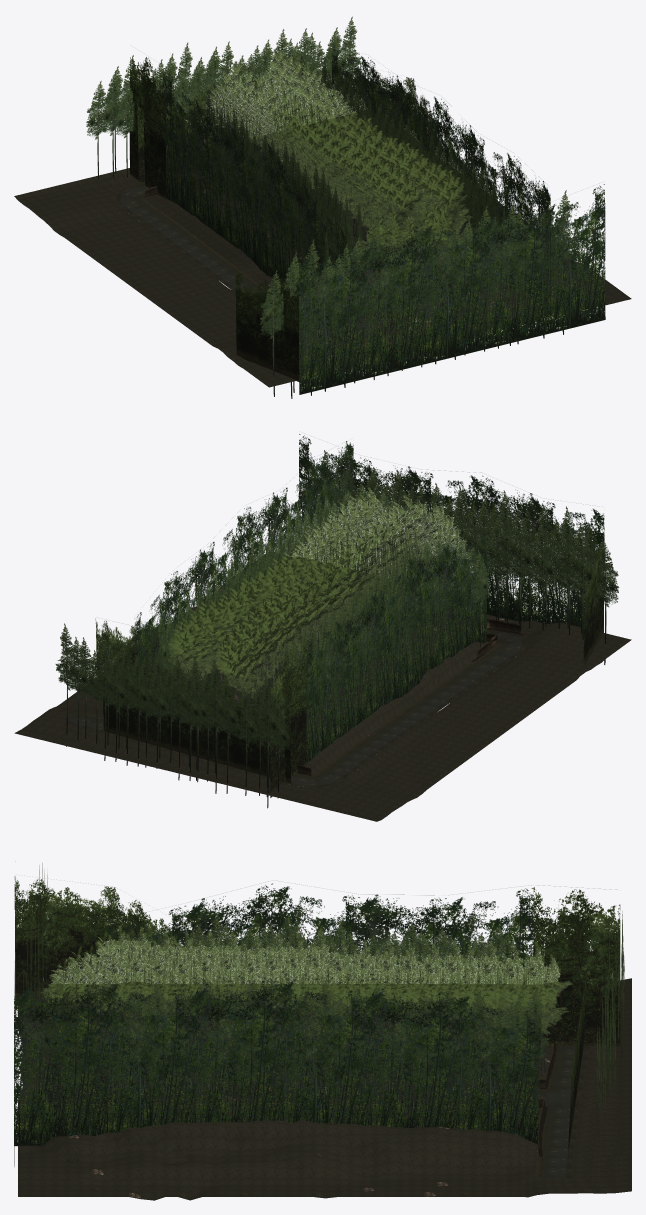
The picture shows the model from 3 angles, top to bottom: view 1: azimuth 30°, elevation 25°; view 2: azimuth 150°, elevation 25°; view 3: azimuth 270°, elevation 25°; orthographic projection. The views are drawn at different scales.
Parts seen in each view (by area): view 1: 1WALL_04, 1WALL_06, 1ROAD_01, 1WALL_08, 1WALL_10, Object002_Material #1594_0, Object001_Material #1593_0, 1WALL_11, 1ROAD_03, 1WALL_13_Material #1597_0, 1ROAD_04, 1WALL_12_Material #1598_0; view 2: 1WALL_06, 1WALL_04, 1ROAD_01, 1WALL_08, Object002_Material #1594_0, 1WALL_10, 1WALL_11, Object001_Material #1593_0, 1ROAD_03, 1ROAD_04, 1WALL_13_Material #1597_0, 1WALL_12_Material #1598_0 (+1 smaller); view 3: 1WALL_04, 1ROAD_01, 1WALL_06, 1WALL_08, 1WALL_10, Object002_Material #1594_0, Object001_Material #1593_0, 1WALL_13_Material #1597_0, 1ROAD_04, 1ROAD_03, 1WALL_11, 1WALL_07 (+4 smaller).
Boxes of the visible parts, x1,y1,x2,y2 form: 1WALL_04: (166, 48, 605, 394); 1WALL_06: (86, 16, 575, 398); 1ROAD_01: (14, 110, 631, 387); 1WALL_08: (130, 57, 476, 381); 1WALL_10: (312, 116, 465, 248); Object002_Material #1594_0: (215, 48, 371, 163); Object001_Material #1593_0: (307, 148, 472, 260); 1WALL_11: (202, 72, 353, 185); 1ROAD_03: (115, 135, 439, 357); 1WALL_13_Material #1597_0: (210, 100, 479, 336); 1ROAD_04: (130, 140, 423, 349); 1WALL_12_Material #1598_0: (210, 92, 478, 319); 1WALL_06: (55, 450, 619, 808); 1WALL_04: (134, 434, 604, 763); 1ROAD_01: (14, 552, 631, 821); 1WALL_08: (95, 529, 604, 797); Object002_Material #1594_0: (168, 555, 344, 678); 1WALL_10: (275, 485, 463, 598); 1WALL_11: (168, 570, 352, 698); Object001_Material #1593_0: (291, 500, 470, 605); 1ROAD_03: (65, 626, 527, 787); 1ROAD_04: (73, 637, 512, 781); 1WALL_13_Material #1597_0: (184, 536, 451, 709); 1WALL_12_Material #1598_0: (191, 519, 446, 710); 1WALL_04: (14, 882, 541, 1166); 1ROAD_01: (18, 978, 631, 1200); 1WALL_06: (22, 863, 624, 1141); 1WALL_08: (14, 876, 620, 1154); 1WALL_10: (47, 926, 325, 1010); Object002_Material #1594_0: (304, 931, 562, 1013); Object001_Material #1593_0: (40, 942, 299, 1040); 1WALL_13_Material #1597_0: (42, 977, 545, 1115); 1ROAD_04: (76, 1033, 570, 1177); 1ROAD_03: (69, 1024, 589, 1178); 1WALL_11: (295, 948, 572, 1035); 1WALL_07: (115, 889, 221, 948).
Size of the model in its own units: 85.86 by 39.15 by 105.
23 materials, 23 textured.
